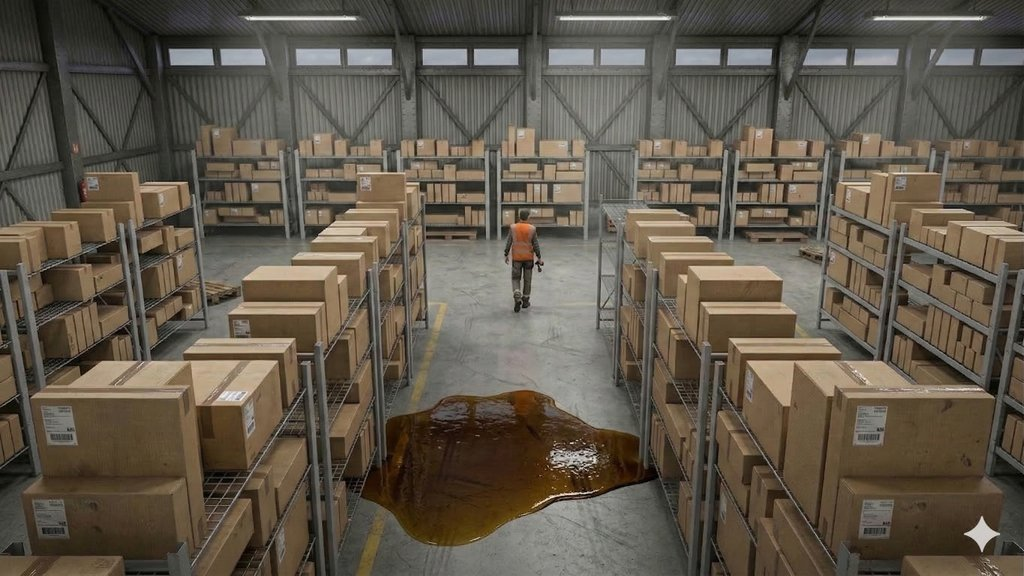empty_shelf: (602, 183, 620, 332), (19, 285, 73, 317), (31, 334, 62, 380)
pallet: (204, 271, 240, 305), (742, 228, 810, 242), (798, 237, 825, 265), (426, 231, 481, 241)
person: (484, 188, 573, 318)
safety_vest: (503, 215, 544, 269)
spill: (362, 374, 657, 552)
